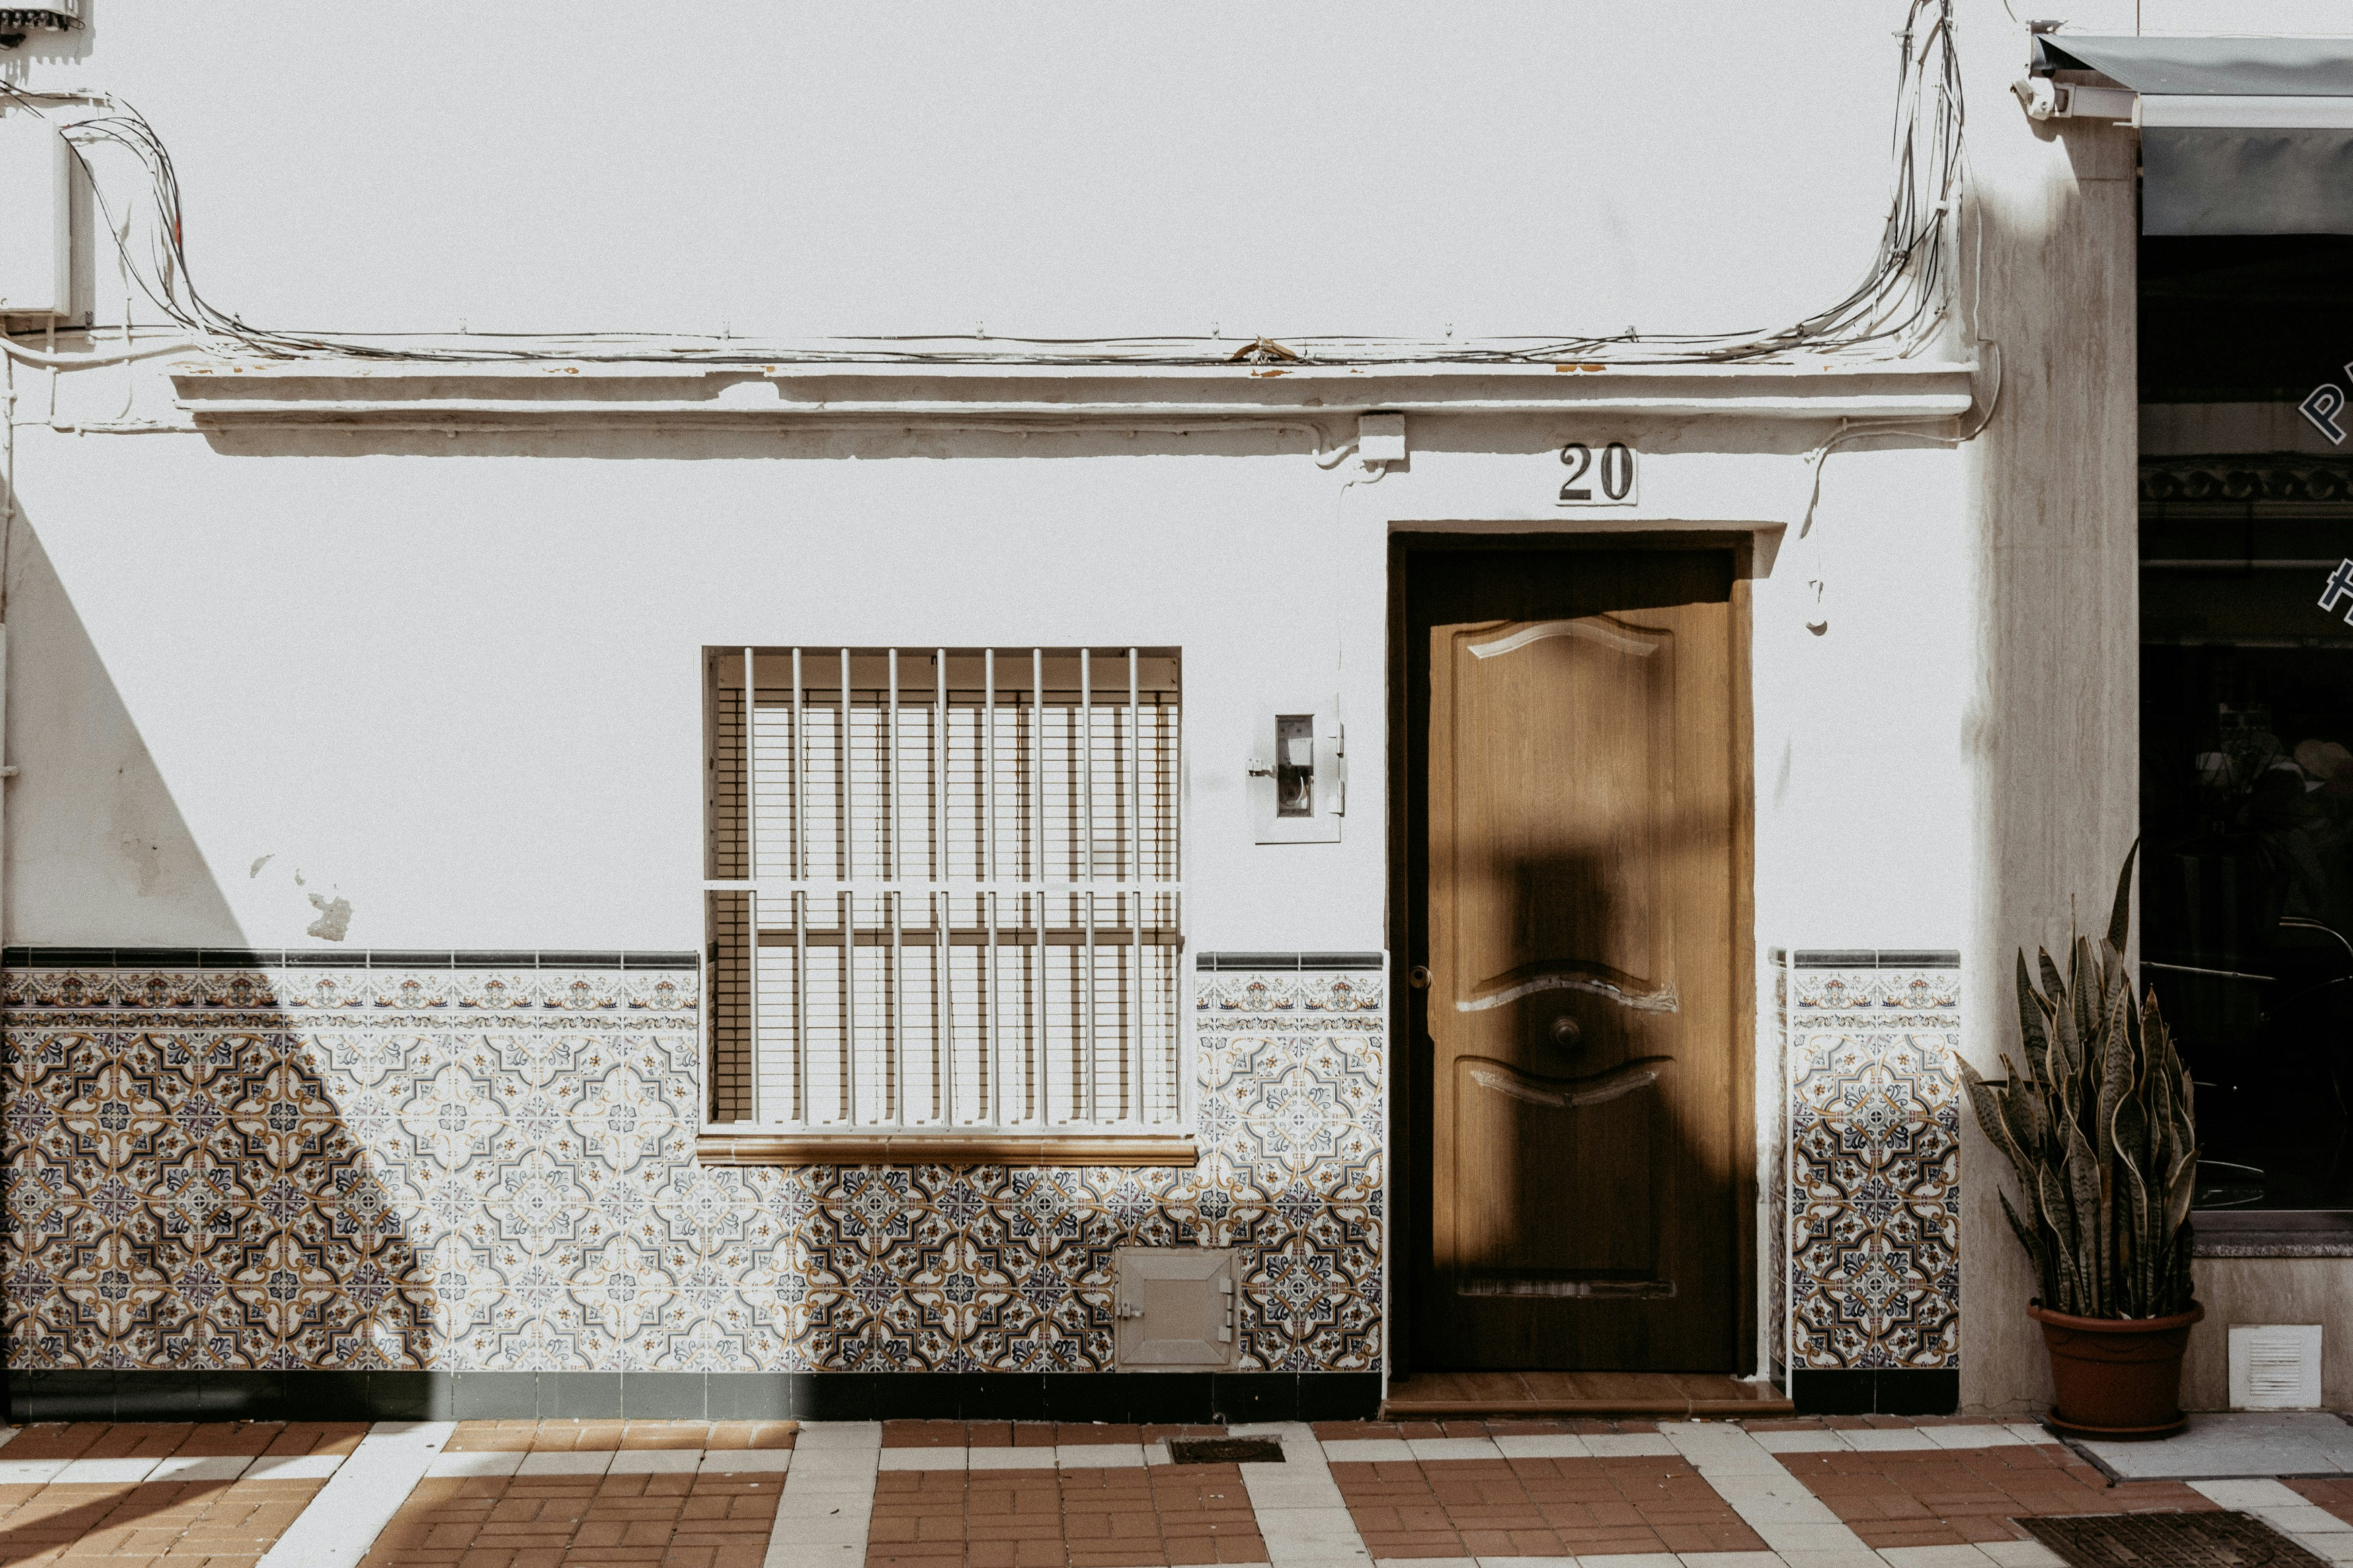door: (1380, 518, 1802, 1425)
